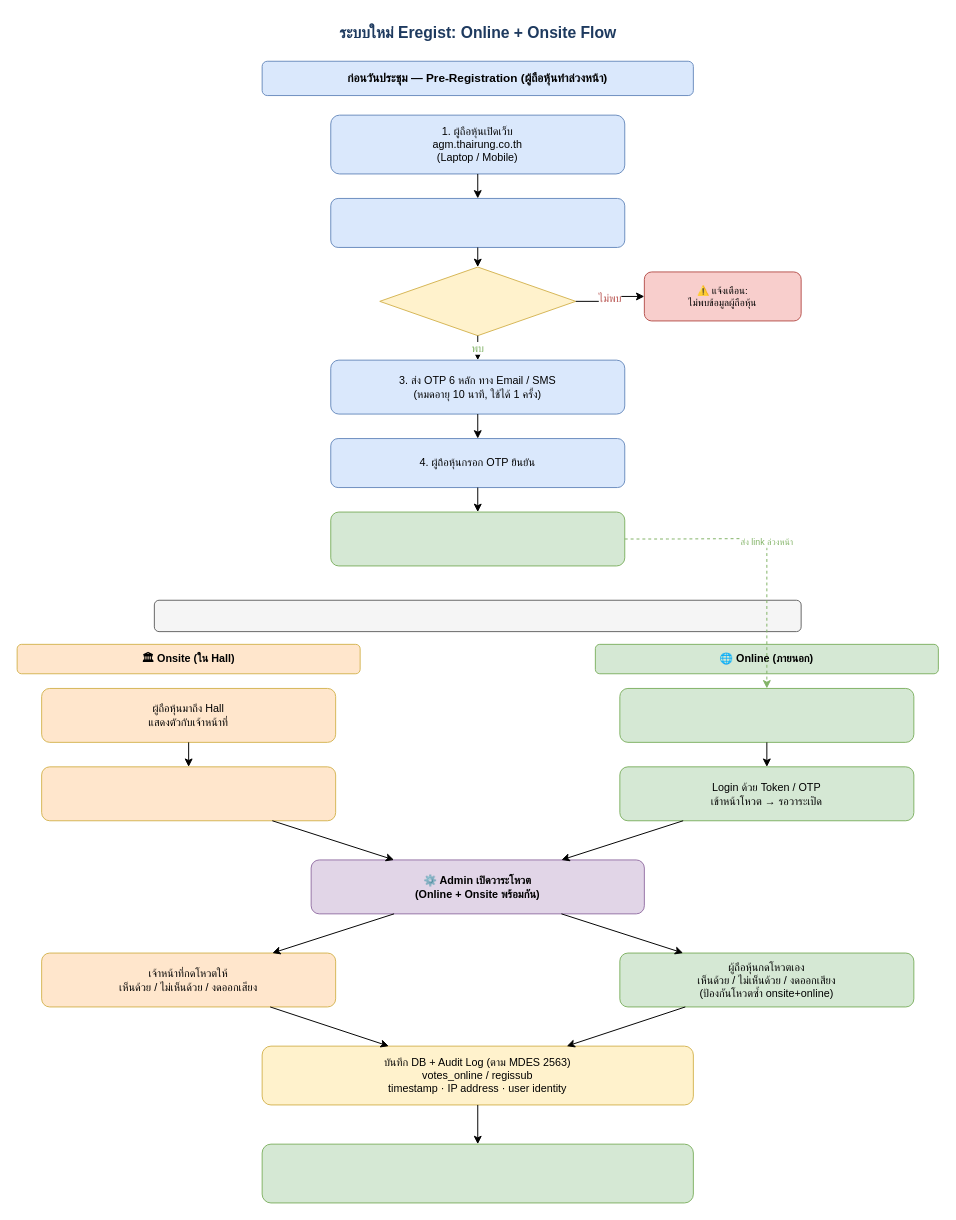
This 956x1220 diagram has some shape labels left out. Each missing label, with the centre of its shape:
"2. กรอก Account ID + เลขบัตรประชาชน" goes at (x=477, y=222).
"5. ✅ ได้รับ Token + Link วันประชุม บันทึกใน online_registration" goes at (x=477, y=538).
"ระบบตรวจสอบ holder DB" goes at (x=477, y=301).
"วันประชุม" goes at (x=477, y=615).
"เจ้าหน้าที่ลงทะเบียน (ระบบเดิม Eregist onsite)" goes at (x=188, y=793).
"เปิด Link จาก Email หรือขอ OTP ใหม่" goes at (x=766, y=714).
"📊 Dashboard Real-time ผลโหวต Onsite + Online รวม → Export รายงาน" goes at (x=477, y=1173).
